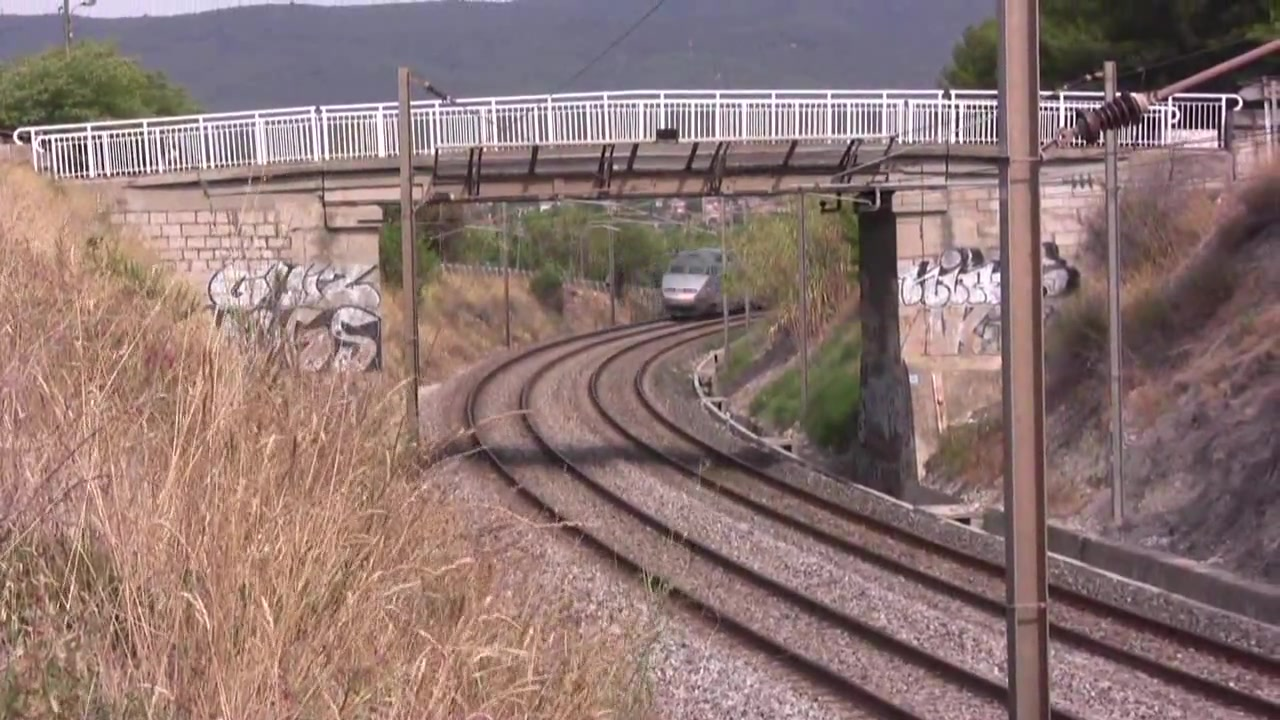train: (658, 247, 742, 316)
